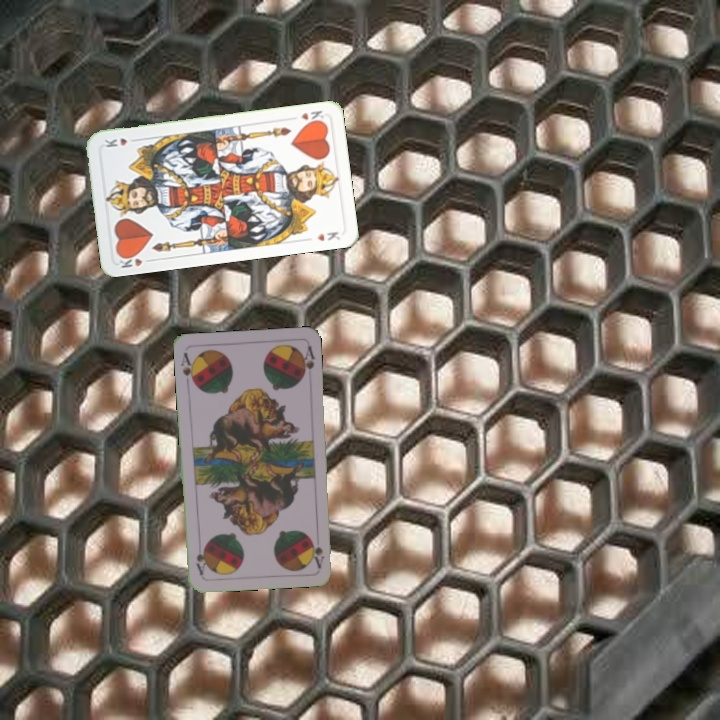HK: (115, 249, 156, 271), (297, 106, 326, 122)
SA: (177, 348, 198, 389), (308, 536, 327, 570)
